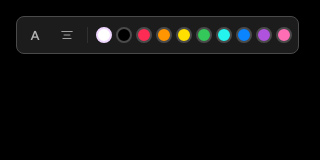
Test: the colour dots › mark the colour the title wears now
Click the button with test id "tiktok-dot-green". click: (204, 35)
box: top-left (196, 27), bottom-right (212, 43)
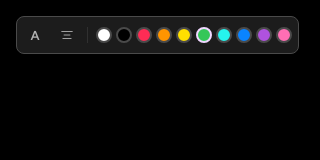
Expected: the button with test id "tiktok-dot-green" is pressed, top-left (196, 27), bottom-right (212, 43)
Expected: the button with test id "tiktok-dot-white" is not pressed, top-left (96, 27), bottom-right (112, 43)
